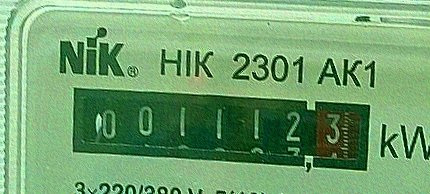0: (133, 101, 158, 141), (97, 104, 122, 141)
1: (172, 101, 193, 141), (210, 104, 227, 143), (248, 105, 265, 143)
2: (281, 108, 306, 146)
3: (322, 111, 343, 147)
screen: (61, 75, 380, 183)
